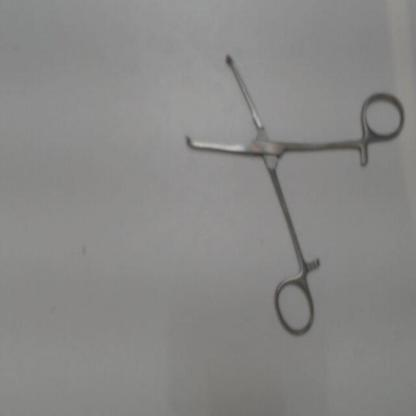Allis Tissue Forceps: (177, 40, 411, 346)
